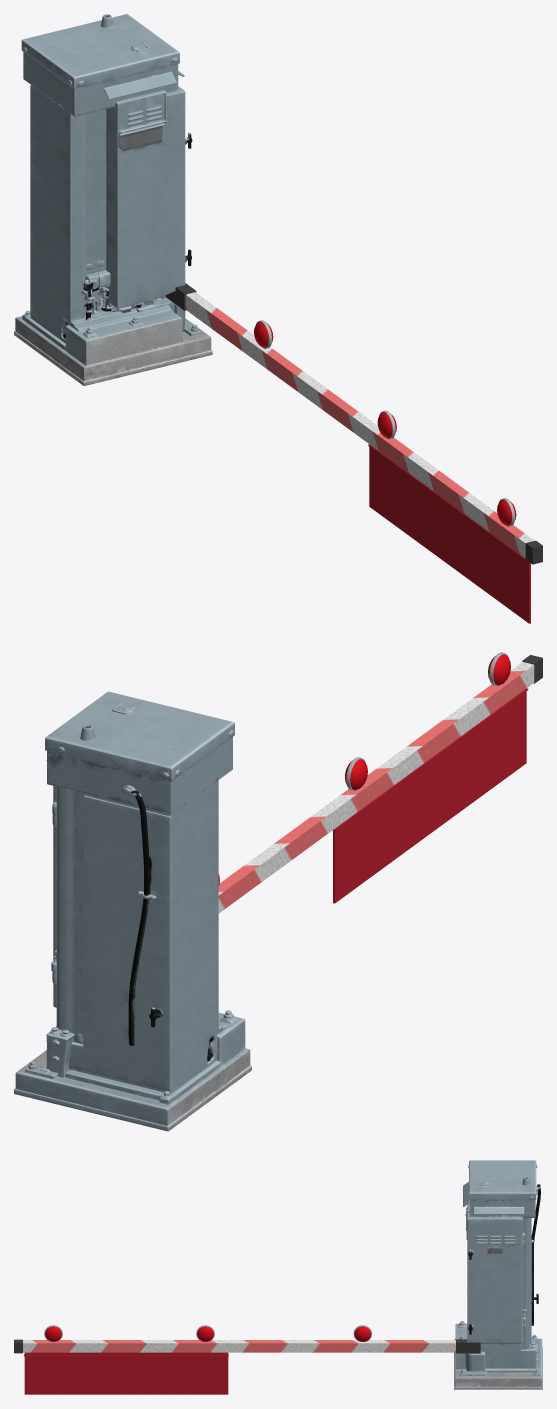
The model's file is lane-barrier-arm-1.glb.
3 views of the same model, one above another, from view 1: azimuth 30°, elevation 25°; view 2: azimuth 150°, elevation 25°; view 3: azimuth 270°, elevation 25° (orthographic). The views are drawn at different scales.
Parts seen in each view (by area): view 1: Mesh_0, flag, arm, lights, metal_cap; view 2: Mesh_0, flag, arm, lights; view 3: Mesh_0, flag, arm, lights, metal_cap.
Part boxes in pixels (bbox=[...]): Mesh_0: bbox=[14, 14, 212, 385]; flag: bbox=[368, 444, 530, 623]; arm: bbox=[185, 292, 534, 558]; lights: bbox=[254, 322, 516, 525]; metal_cap: bbox=[165, 283, 542, 564]; Mesh_0: bbox=[14, 691, 251, 1131]; flag: bbox=[332, 688, 528, 903]; arm: bbox=[218, 662, 534, 913]; lights: bbox=[218, 654, 510, 885]; Mesh_0: bbox=[454, 1160, 542, 1389]; flag: bbox=[24, 1352, 228, 1394]; arm: bbox=[23, 1340, 455, 1352]; lights: bbox=[45, 1326, 371, 1341]; metal_cap: bbox=[14, 1339, 480, 1353].
Bounding box in the file's own units: 2.09 × 5.04 × 11.65.
6 materials, 4 textured.
